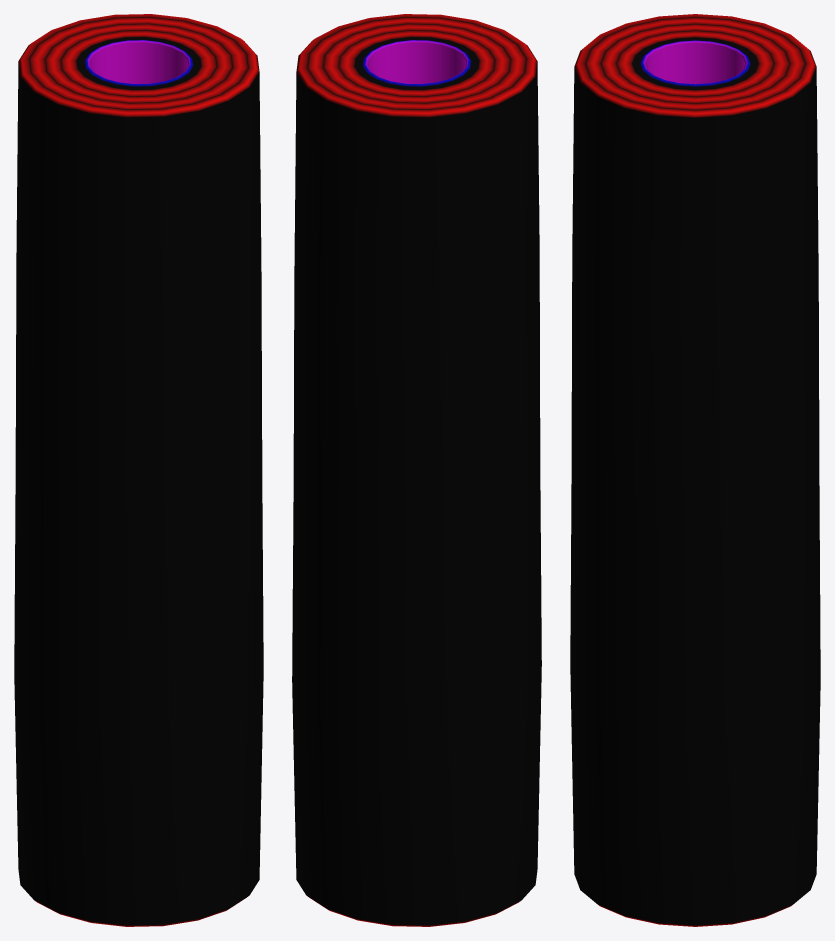
Rendered from towel.fbx.
3 renders of one model, left to right at view 1: azimuth 30°, elevation 25°; view 2: azimuth 150°, elevation 25°; view 3: azimuth 270°, elevation 25°, orthographic.
Visible parts, largest first — view 1: towel; view 2: towel; view 3: towel.
Part boxes in pixels (<box>): towel: <box>14,14,263,926</box>; towel: <box>292,14,541,926</box>; towel: <box>570,14,820,926</box>.
Bounding box in the file's own units: 207 × 744 × 207.
